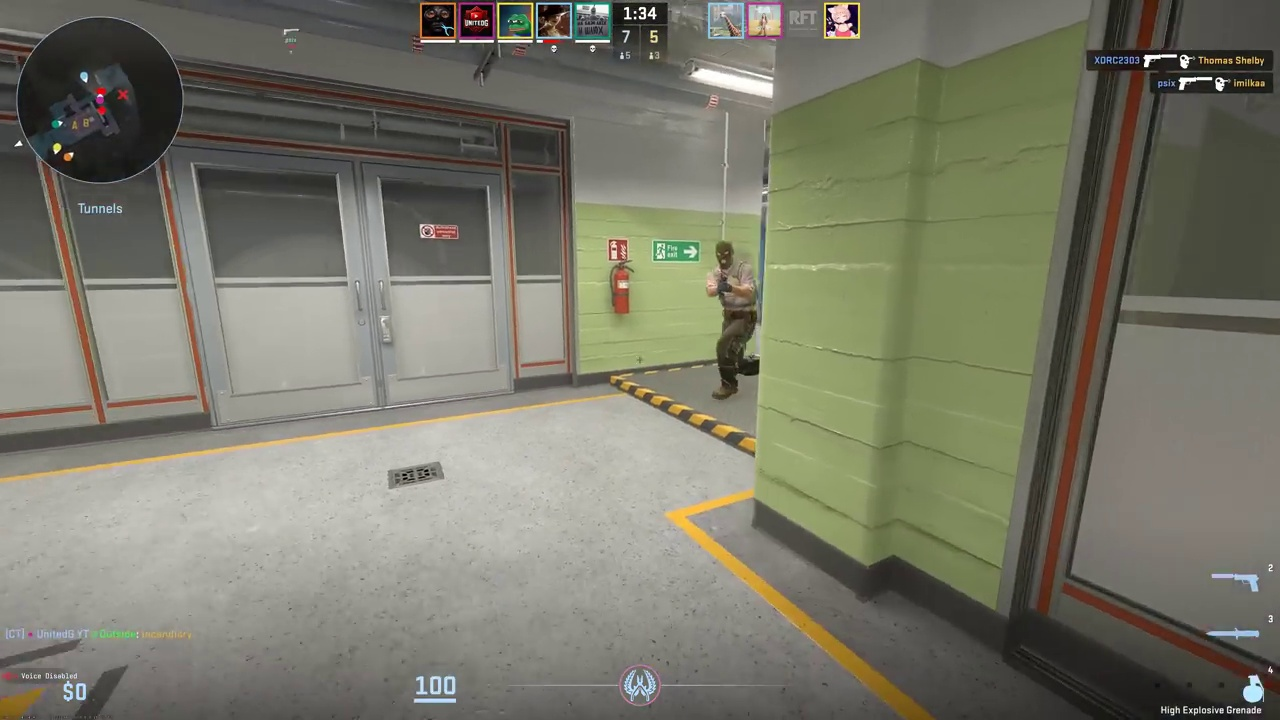Terrorist: (706, 240, 760, 401)
